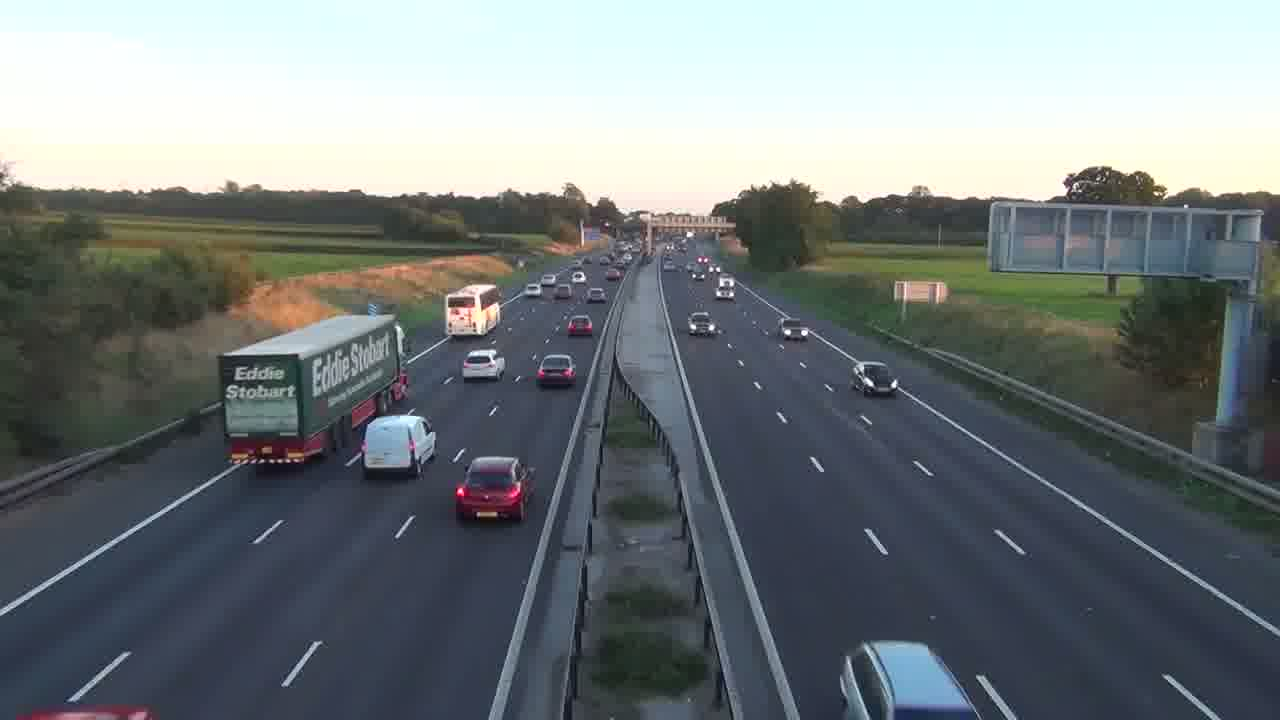bus: (218, 311, 404, 466), (446, 283, 503, 337)
car: (839, 639, 981, 718), (453, 456, 535, 521), (849, 359, 898, 397), (462, 347, 505, 382), (535, 353, 576, 388), (565, 313, 593, 337)
truck: (218, 311, 404, 466), (362, 413, 437, 479)
